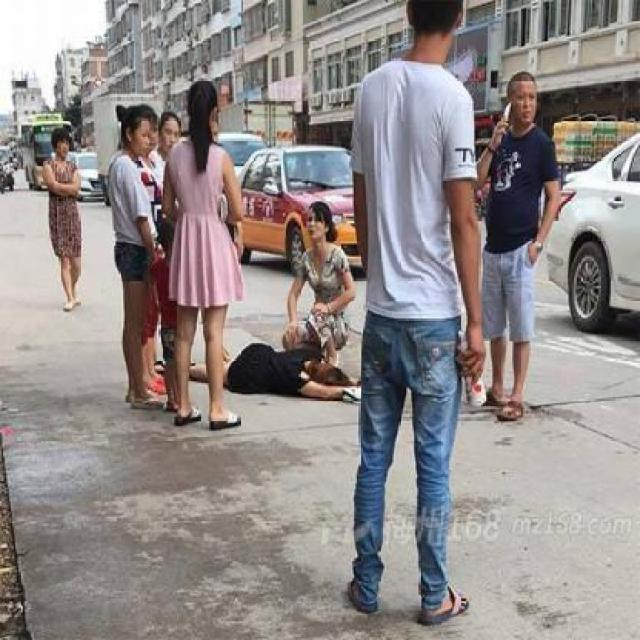fall: (189, 315, 366, 408)
